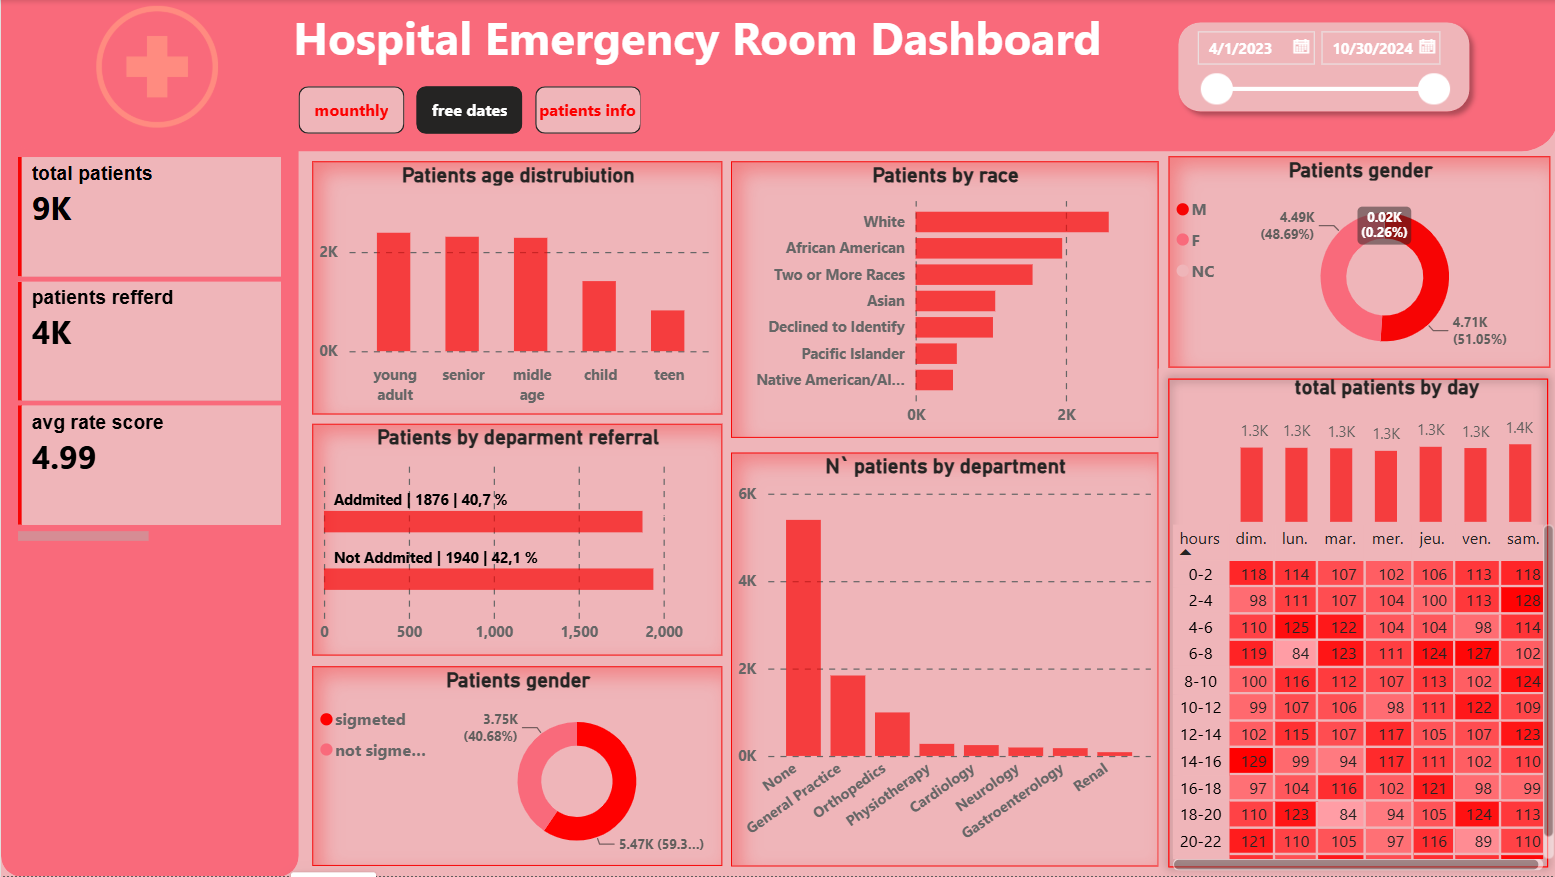

The page's visual inventory and layout, read from the dashboard file:
{"tool":"powerbi","page":{"name":"free dates","canvas":[1280,720],"ordinal":1},"visuals":[{"type":"shape","box":[0,0,244.6,720.1],"z":0},{"type":"cardVisual","fields":{"Data":["a mesures.total patients","a mesures.patients refferd","a mesures.avg rate score","a mesures.patients avg wtime"]},"box":[8.9,124.1,226.1,327.2],"z":1000},{"type":"clusteredColumnChart","title":"Patients age distrubiution","fields":{"Category":["Hospital ER_Data.Patient Age groupes"],"Y":["CountNonNull(Hospital ER_Data.Patient Age groupes)"]},"box":[255.4,132.1,336.9,208.4],"z":2000},{"type":"clusteredBarChart","title":"Patients by race","fields":{"Category":["Hospital ER_Data.Patient Race"],"Y":["CountNonNull(Hospital ER_Data.Patient Race)"]},"box":[599.1,132.3,351.1,227.6],"z":3000},{"type":"donutChart","title":"Patients gender","fields":{"Category":["Hospital ER_Data.Patient Gender"],"Y":["CountNonNull(Hospital ER_Data.Patient Gender)"]},"box":[958.5,128.6,313.9,173.8],"z":4000},{"type":"clusteredBarChart","title":"Patients by deparment referral","fields":{"Category":["Hospital ER_Data.Patient Admission Flag"],"Y":["a mesures.cst for 0","a mesures.patients refferd"]},"box":[255.8,348.2,336.5,190.6],"z":5000},{"type":"image","box":[0,0,244.6,107.2],"z":6000},{"type":"shape","box":[0,0,1280,124.4],"z":7000},{"type":"donutChart","title":"Patients gender","fields":{"Category":["Hospital ER_Data.sigmeted"],"Y":["CountNonNull(Hospital ER_Data.sigmeted)"]},"box":[255.6,546.7,336.7,164.3],"z":8000},{"type":"clusteredColumnChart","title":"N` patients by department","fields":{"Category":["Hospital ER_Data.Department Referral"],"Y":["CountNonNull(Hospital ER_Data.Department Referral)"]},"box":[599.4,371.5,351.1,339.6],"z":9000},{"type":"shape","box":[950.5,302.4,328.1,417.6],"z":10000},{"type":"pivotTable","fields":{"Rows":["Hospital ER_Data.hours"],"Columns":["date Table.day"],"Values":["a mesures.total patients"]},"box":[957.6,426.5,322.8,293.5],"z":11000},{"type":"clusteredColumnChart","fields":{"Category":["date Table.day"],"Y":["a mesures.total patients"]},"box":[1013.5,307.7,250,126.8],"z":12000},{"type":"textbox","box":[235,0,735.1,64.7],"z":13000},{"type":"image","box":[71.8,0,112.6,110],"z":14000},{"type":"shape","box":[957.6,8.9,257.1,91.3],"z":15000},{"type":"slicer","fields":{"Values":["date Table.Date"]},"box":[970,15.1,227.9,79.8],"z":16000},{"type":"pageNavigator","box":[244.3,70.6,282.4,39],"z":17001}]}

Visuals, with their boxes in screenshot pixels (x1, y1, x2, y2), scaled from the page's 1280x720 canvas onto the 1555x877 screenshot:
shape: box=[0, 0, 297, 876]
cardVisual - a mesures.total patients x a mesures.patients refferd: box=[11, 151, 285, 550]
"Patients age distrubiution" clusteredColumnChart: box=[310, 161, 720, 415]
"Patients by race" clusteredBarChart: box=[728, 161, 1154, 438]
"Patients gender" donutChart: box=[1164, 157, 1546, 368]
"Patients by deparment referral" clusteredBarChart: box=[311, 424, 720, 656]
image: box=[0, 0, 297, 131]
shape: box=[0, 0, 1554, 152]
"Patients gender" donutChart: box=[311, 666, 720, 866]
"N` patients by department" clusteredColumnChart: box=[728, 453, 1155, 866]
shape: box=[1155, 368, 1553, 876]
pivotTable - Hospital ER_Data.hours x date Table.day: box=[1163, 520, 1554, 876]
clusteredColumnChart - date Table.day x a mesures.total patients: box=[1231, 375, 1535, 529]
textbox: box=[285, 0, 1179, 79]
image: box=[87, 0, 224, 134]
shape: box=[1163, 11, 1476, 122]
slicer - date Table.Date: box=[1178, 18, 1455, 116]
pageNavigator: box=[297, 86, 640, 133]
